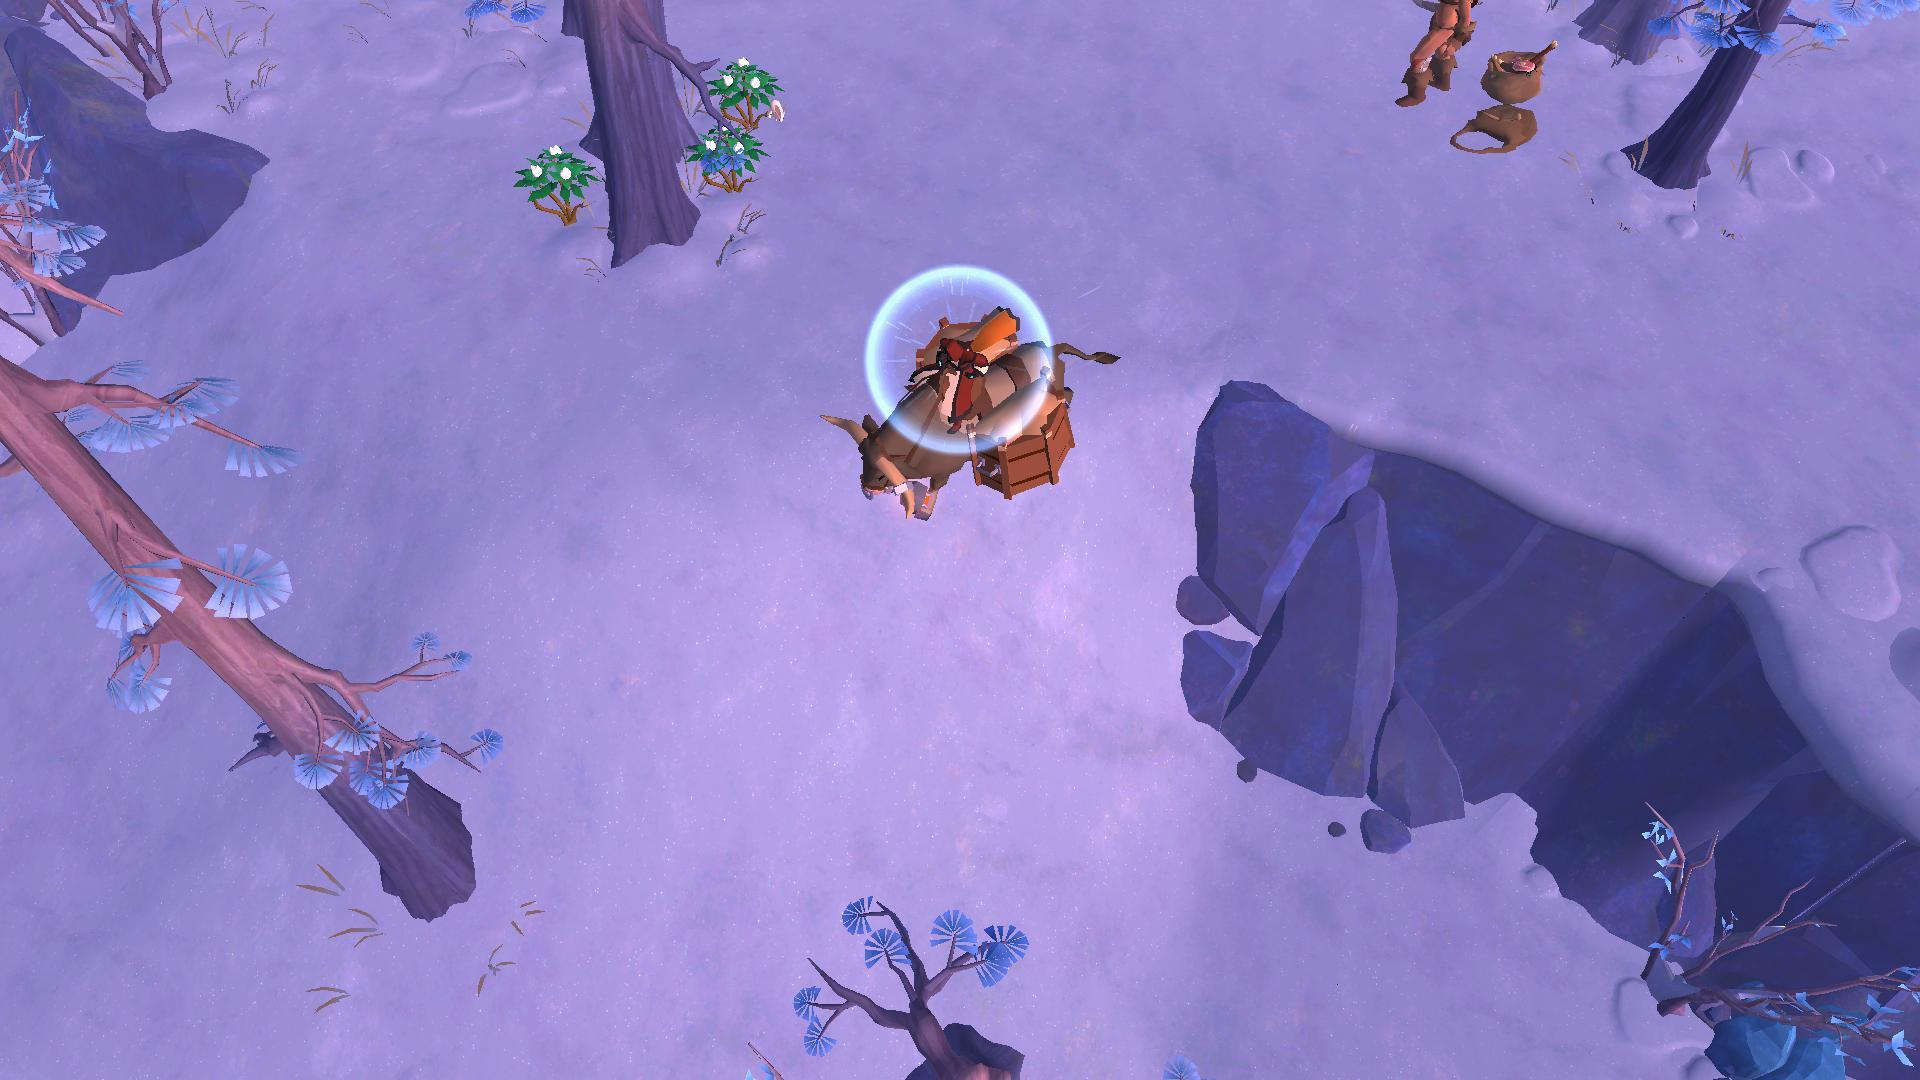enemy_factionKeeper: (1378, 0, 1474, 115)
fiber_t3: (698, 46, 789, 132), (512, 137, 597, 225), (679, 115, 761, 187)
